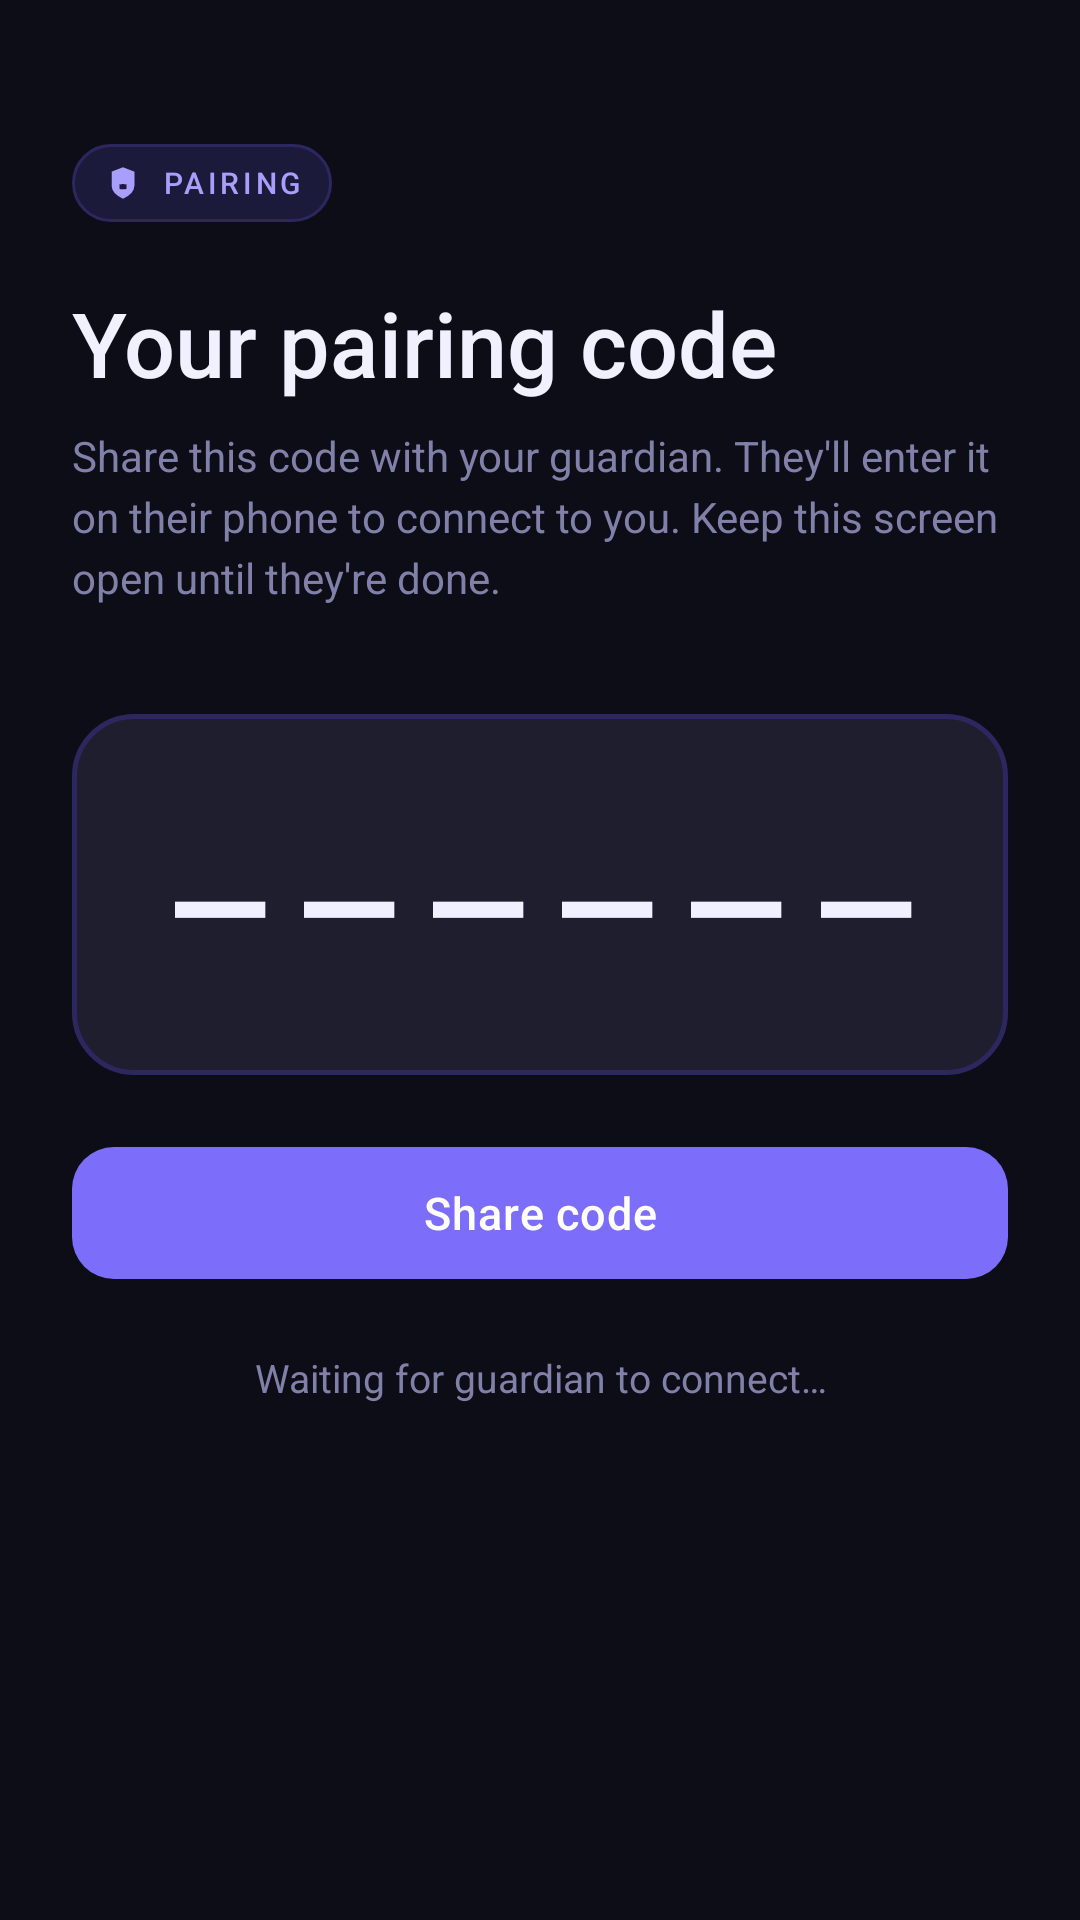

Icon bounding boxes for this 1080*1920 phone screenshot, format (x1, y1, x2, y2):
shield: (111, 167, 135, 199)
